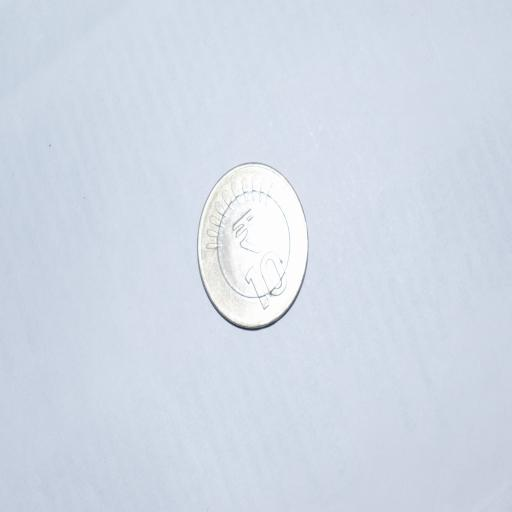rupee10: (193, 161, 311, 334)
